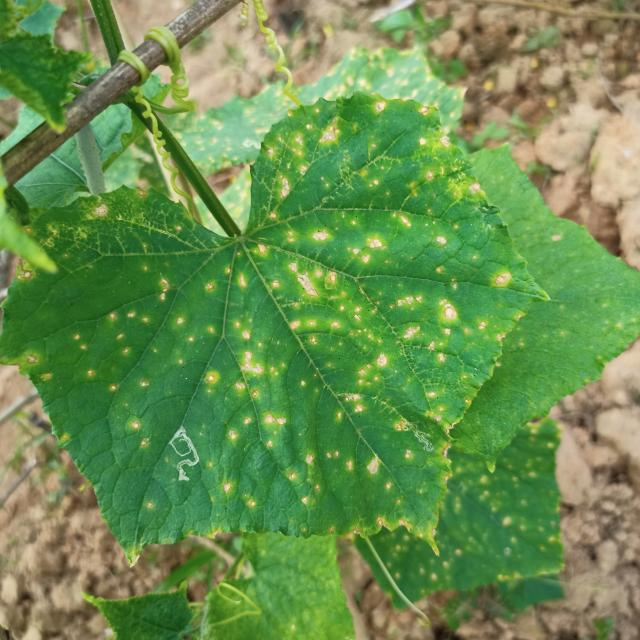disease_cucumber: (54, 112, 498, 541)
